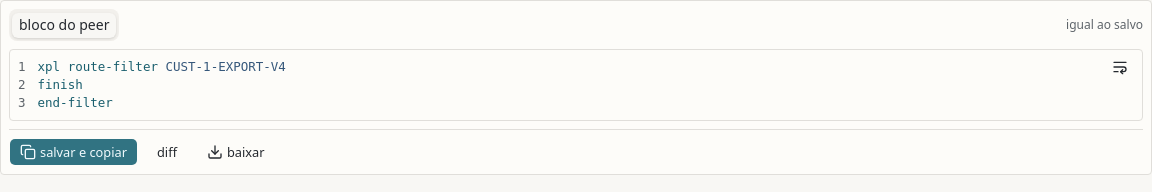
Test: o botao de copiar › nao dispara o salvamento duas vezes no mesmo clique duplo
Step 1. Click the button "salvar e copiar" → (74, 152), box [9,138,138,166]
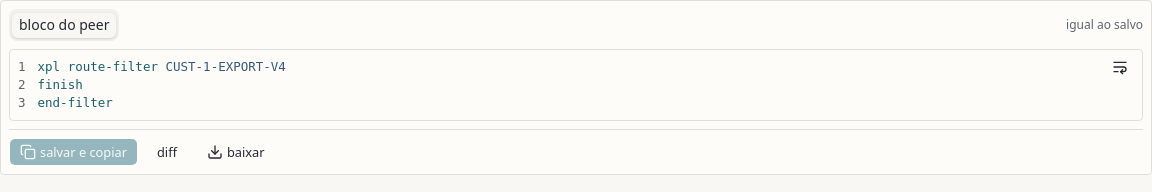
Step 2. Click the button "salvar e copiar" → (74, 152), box [9,138,138,166]
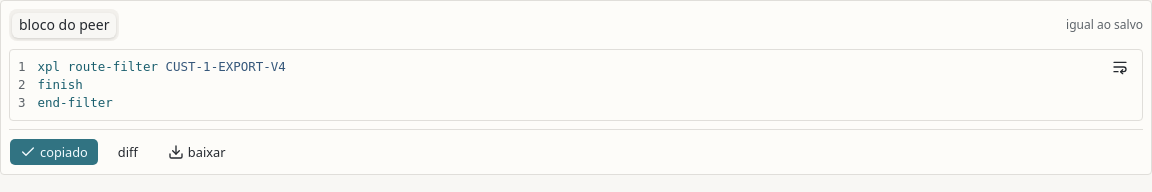
Expected: the button "copiado" is shown, [9,138,99,166]
